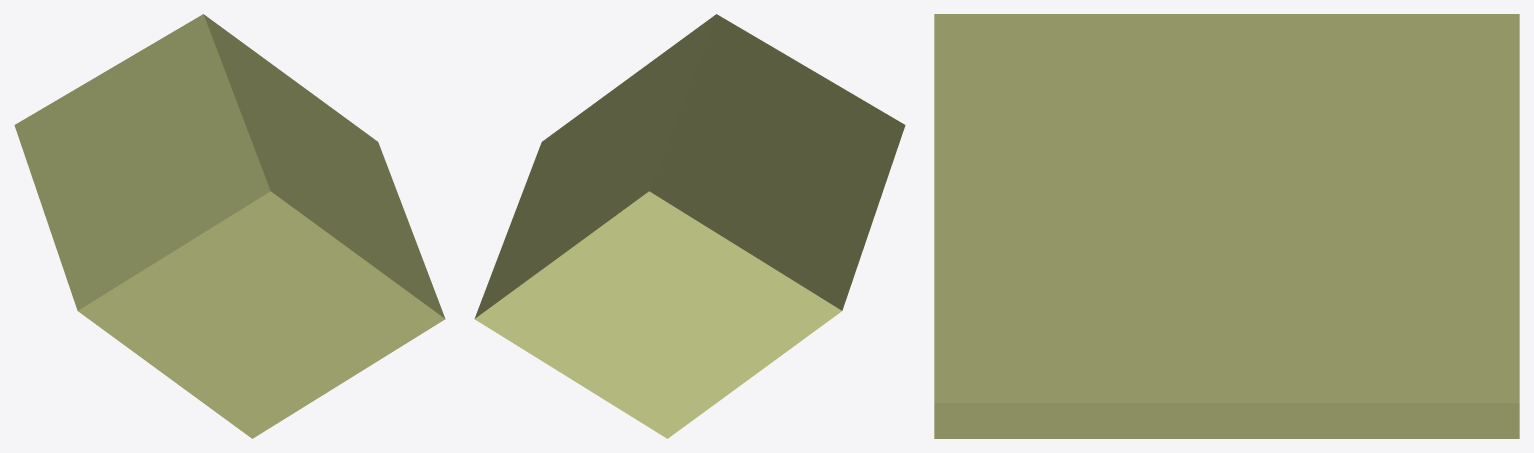
3 views of the same model, side by side, from view 1: azimuth 30°, elevation 25°; view 2: azimuth 150°, elevation 25°; view 3: azimuth 270°, elevation 25° (orthographic). The views are drawn at different scales.
Visible parts, largest first — view 1: 0_0_1_2_0_0_3_0_0_3_1; view 2: 0_0_1_2_0_0_3_0_0_3_1; view 3: 0_0_1_2_0_0_3_0_0_3_1.
Part boxes in pixels (x1,y1,x2,y2): 0_0_1_2_0_0_3_0_0_3_1: (14,14,445,438); 0_0_1_2_0_0_3_0_0_3_1: (474,14,905,438); 0_0_1_2_0_0_3_0_0_3_1: (934,14,1519,438).
Bounding box in the file's own units: 7.62 × 7.56 × 9.
